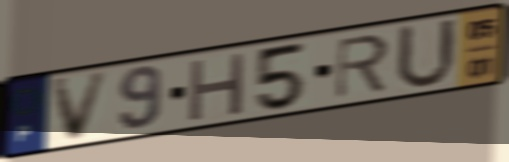5: (251, 38, 315, 115)
9: (116, 63, 164, 134)
H: (186, 49, 249, 125)
R: (333, 31, 392, 102)
U: (393, 16, 460, 92)
V: (49, 68, 114, 145)
